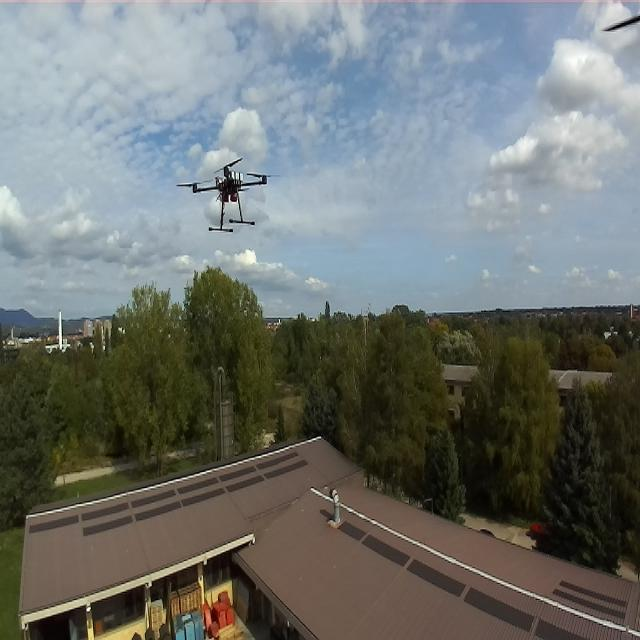UAV: (175, 153, 282, 236)
